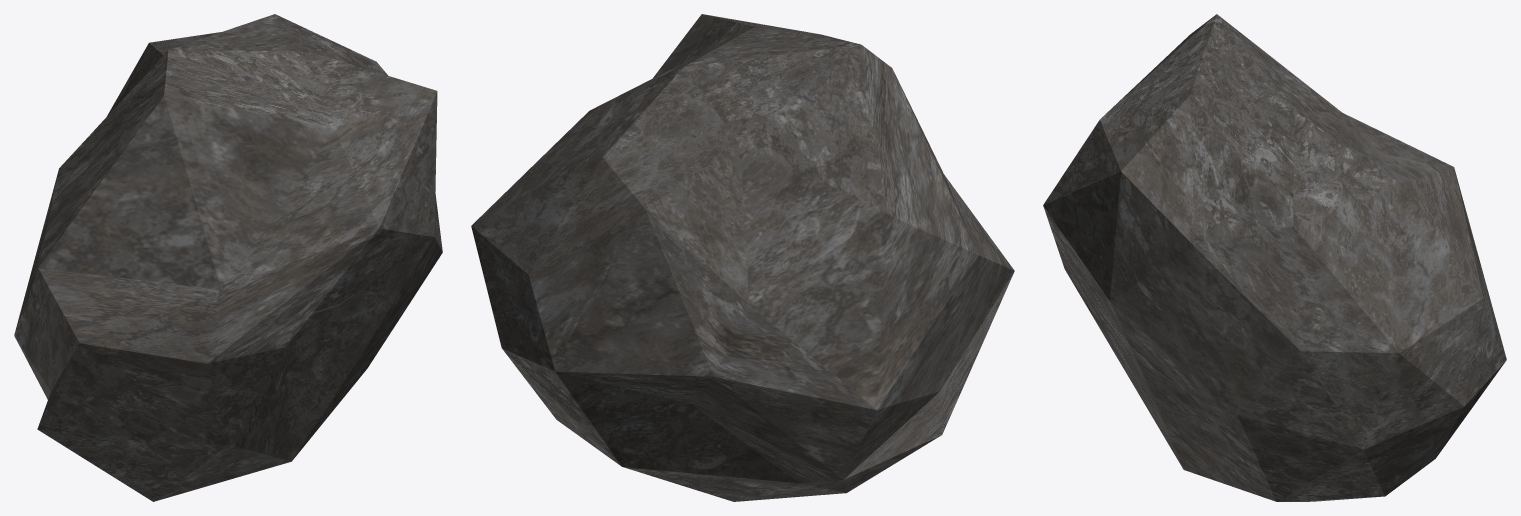
File: Asteroid_05_LOD2.FBX
The picture shows the model from 3 angles, left to right: view 1: azimuth 30°, elevation 25°; view 2: azimuth 150°, elevation 25°; view 3: azimuth 270°, elevation 25°; orthographic projection. The views are drawn at different scales.
Parts seen in each view (by area): view 1: Asteriod_05_LOD2; view 2: Asteriod_05_LOD2; view 3: Asteriod_05_LOD2.
Boxes of the visible parts, x1,y1,x2,y2 form: Asteriod_05_LOD2: (14,14,442,501); Asteriod_05_LOD2: (471,14,1014,501); Asteriod_05_LOD2: (1043,14,1506,501).
Bounding box in the file's own units: 676 × 681 × 638.
Materials: 1 (1 with a texture image).
